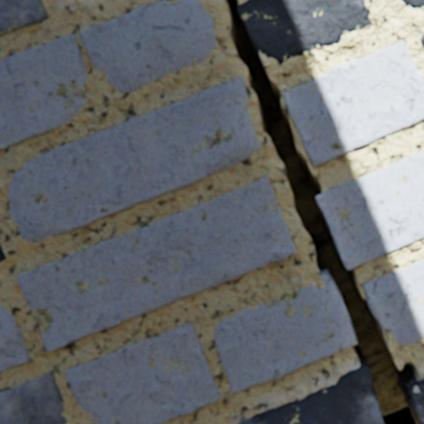brick: (18, 178, 296, 351), (9, 78, 259, 242), (283, 42, 423, 167), (215, 279, 356, 393), (68, 323, 221, 423), (81, 0, 217, 94), (316, 151, 423, 269), (0, 36, 88, 152), (237, 0, 371, 64), (362, 259, 423, 344), (0, 371, 68, 423), (0, 306, 31, 372), (0, 0, 48, 37), (400, 0, 423, 9), (0, 244, 6, 261), (419, 36, 423, 48)
broken_brick: (238, 365, 382, 423), (412, 378, 423, 423)
crack: (226, 0, 421, 423)
